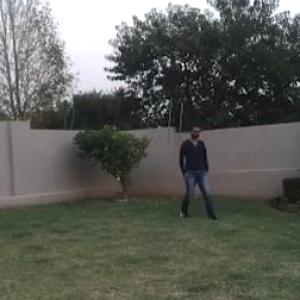follow: (180, 122, 212, 222)
